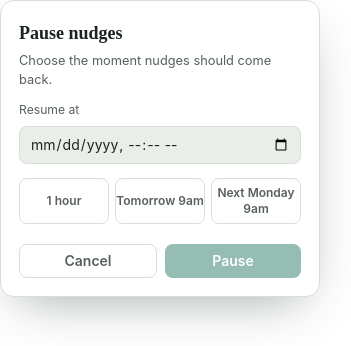
Test: CustomPauseDialog › sets the resume time one hour from now when the '1 hour' preset is clicked
Note: WHEN the user clicks the "1 hour" preset
Click the button "1 hour" at [64, 201], box [19, 178, 109, 224]
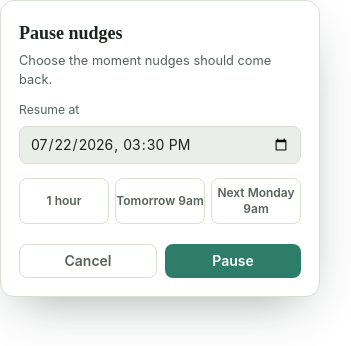
expect the field labelled "Resume at" holds "2026-07-22T15:30": met, box [19, 126, 301, 164]
